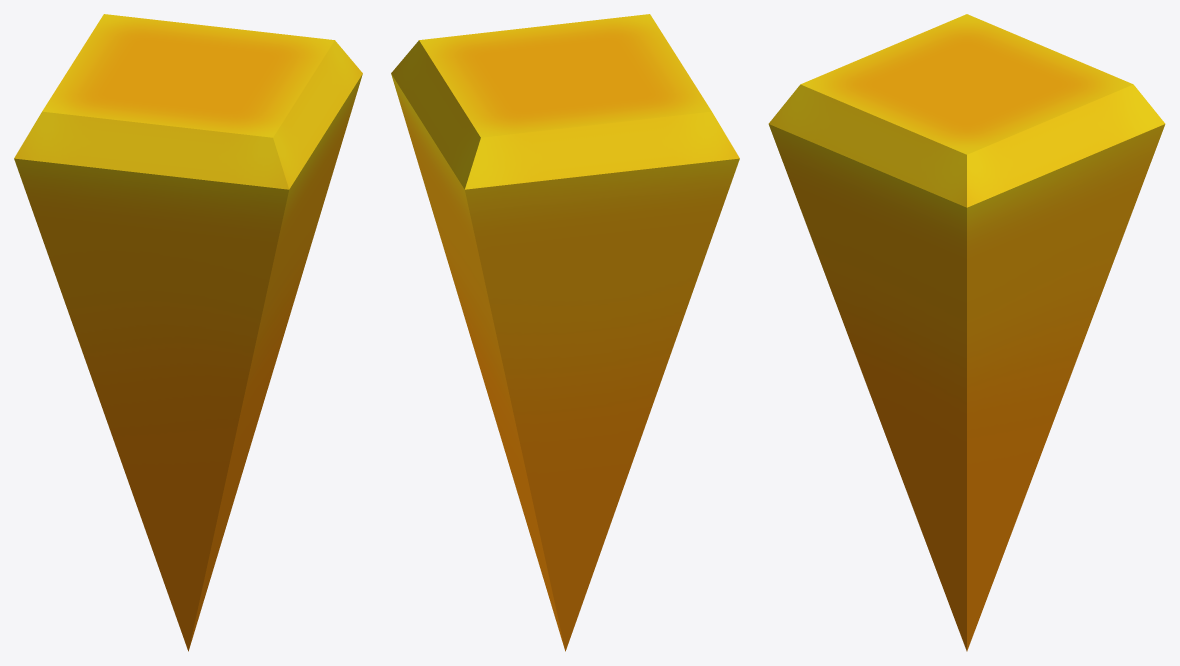
The model's file is biaodian.fbx.
3 renders of one model, left to right at view 1: azimuth 30°, elevation 25°; view 2: azimuth 150°, elevation 25°; view 3: azimuth 270°, elevation 25°, orthographic.
Visible parts, largest first — view 1: baiodian; view 2: baiodian; view 3: baiodian.
Part boxes in pixels (bbox=[...]): baiodian: bbox=[14, 14, 362, 651]; baiodian: bbox=[391, 14, 739, 651]; baiodian: bbox=[768, 14, 1165, 651].
Size of the model in its own units: 1.37 by 2.16 by 1.37.
Materials: 1 (1 with a texture image).
